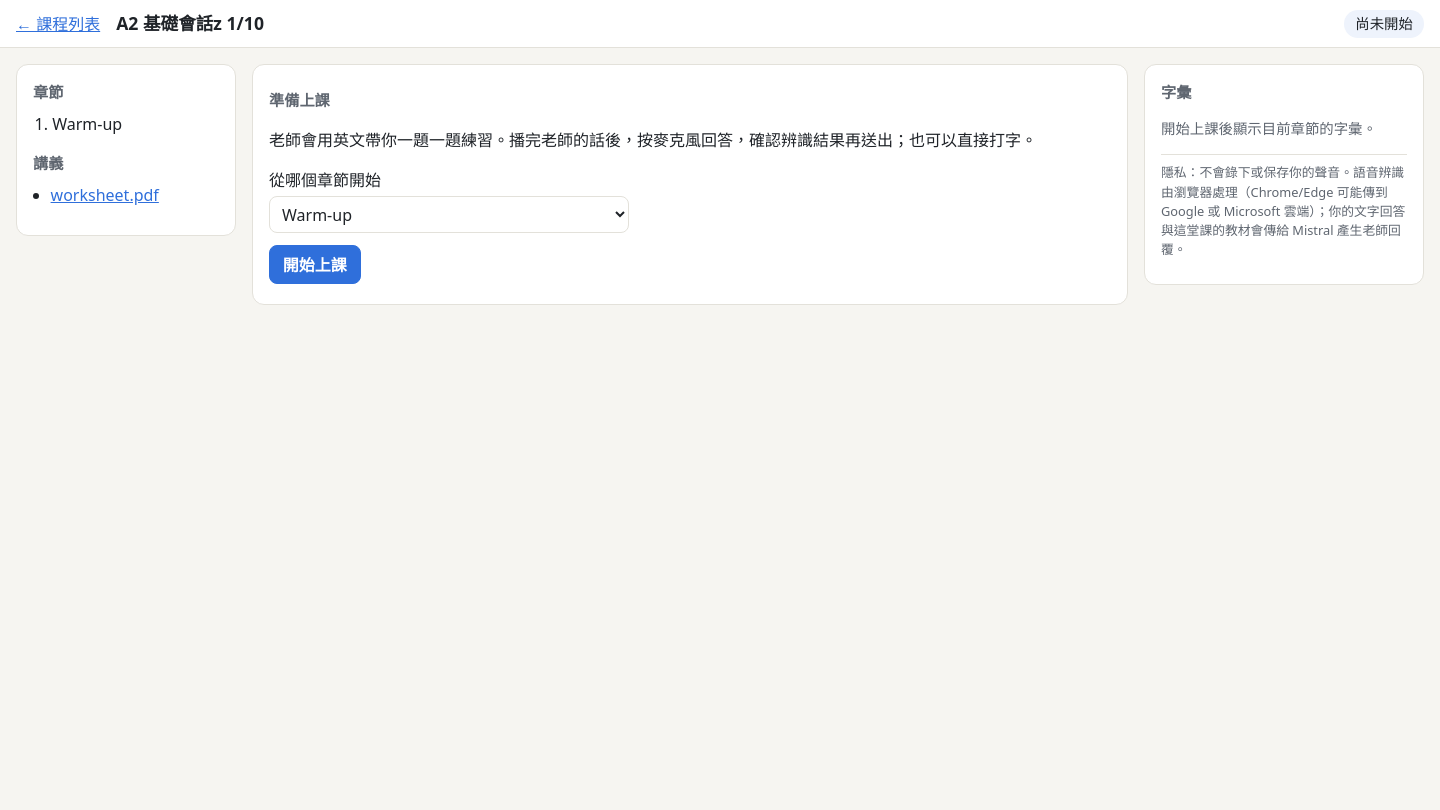
Test case: classroom › shows the text and lets the lesson go on when TTS fails (AT-11)
Click the button "開始上課" at (315, 265), box [269,245,361,284]
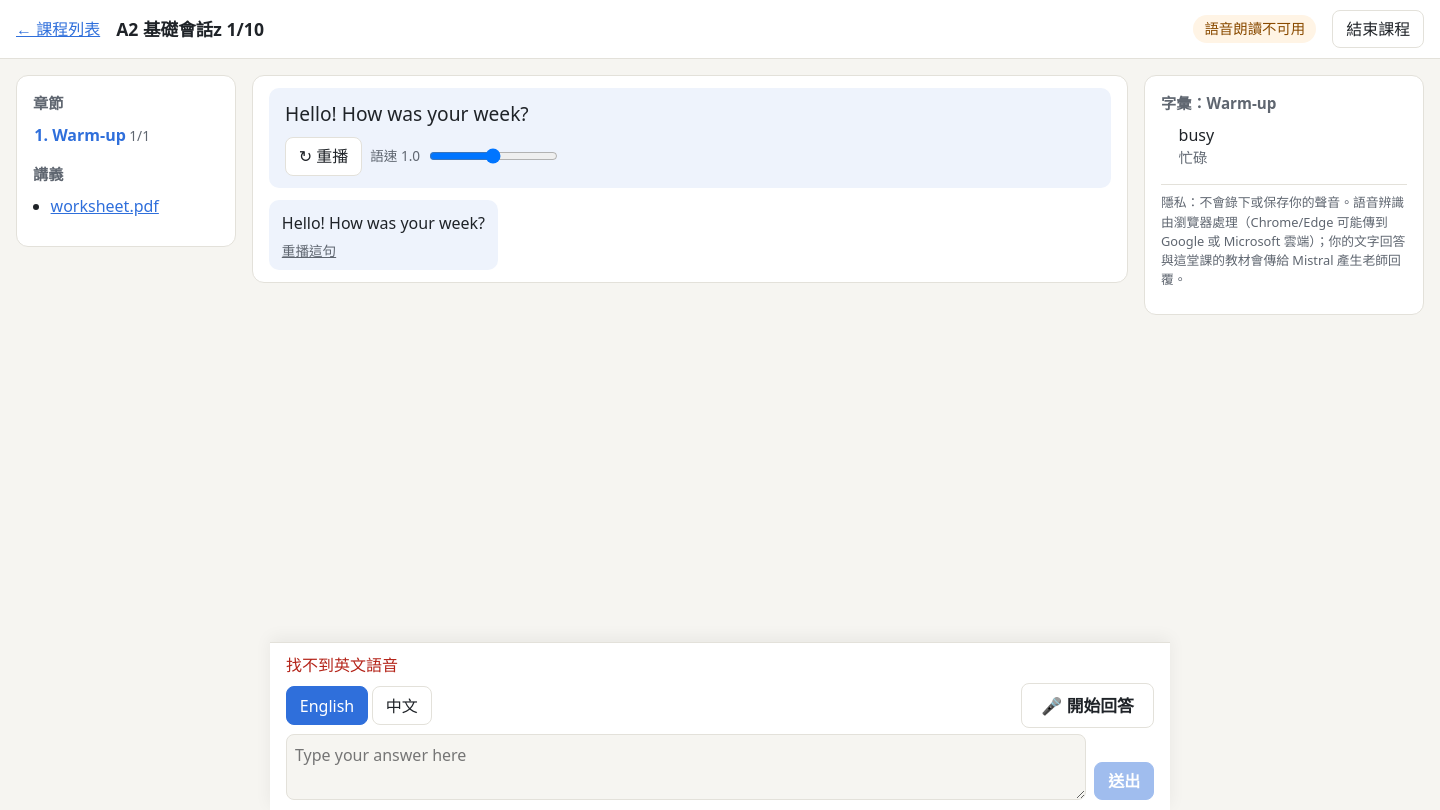
Now the text with class "status" reads "語音朗讀不可用", box [1204,19,1305,38]
Now the message reads "找不到英文語音", box [286,654,398,676]
Now the 1st text "Hello! How was your week?" is shown, box [285,100,529,127]
Type "Fine." into the text box at (686, 767), box [286,734,1086,800]
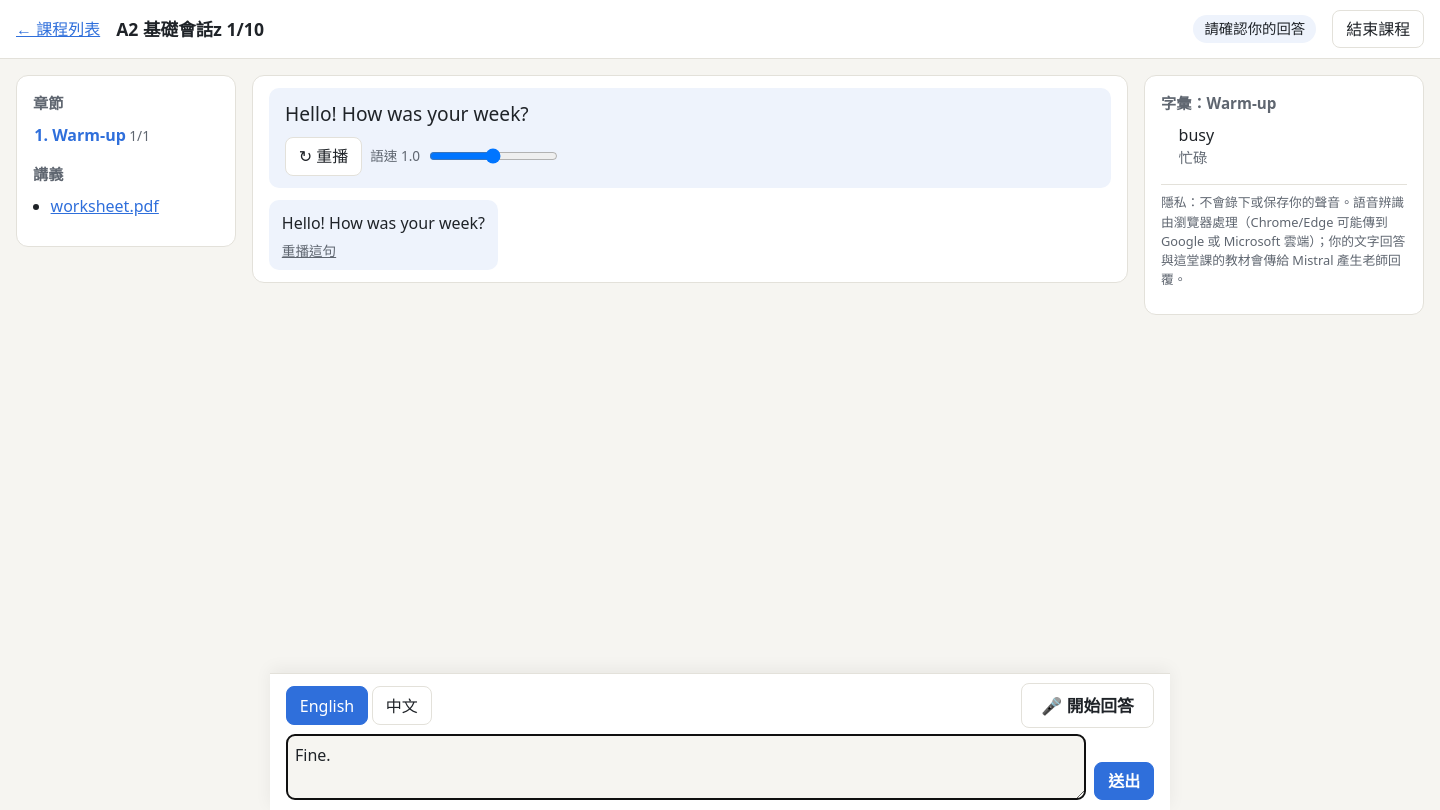
Now the button "送出" is enabled, box [1094,762,1154,800]
